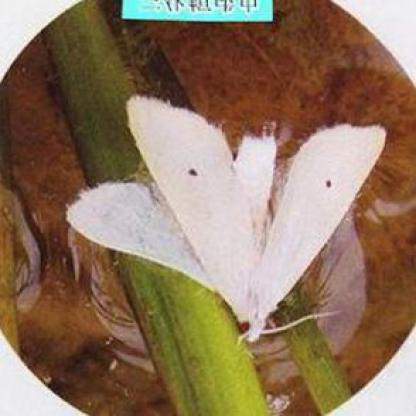stem-borer: (63, 92, 386, 344)
